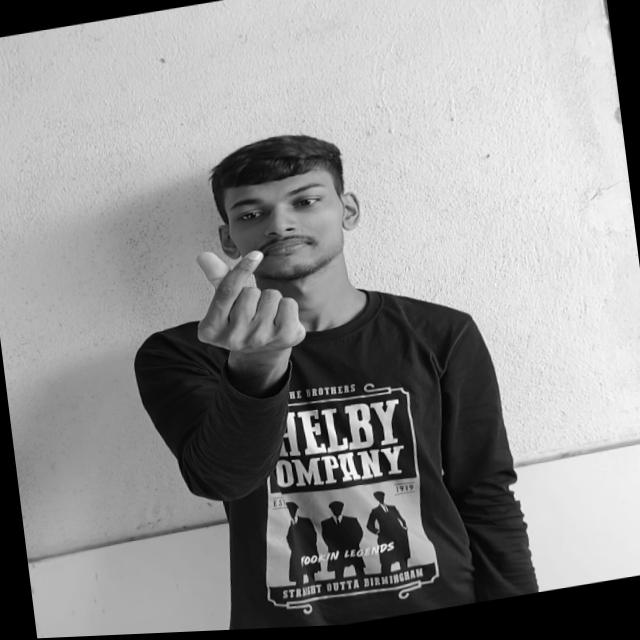Grattitude: (184, 238, 310, 368)
